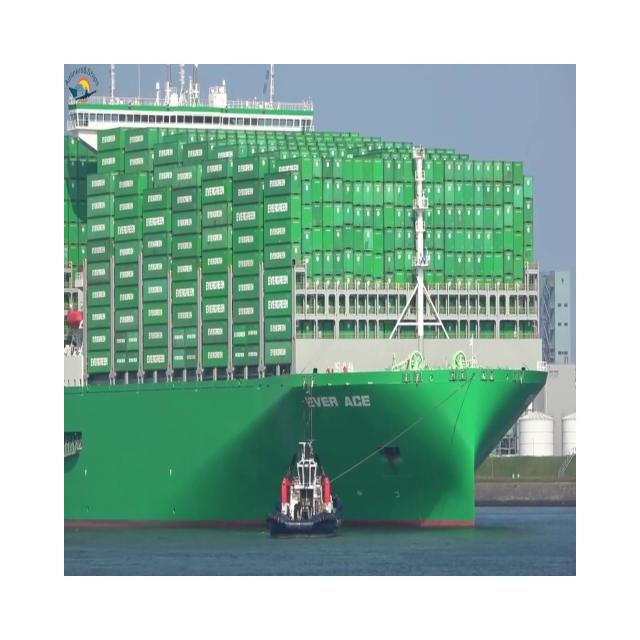OCR: (295, 384, 380, 423)
